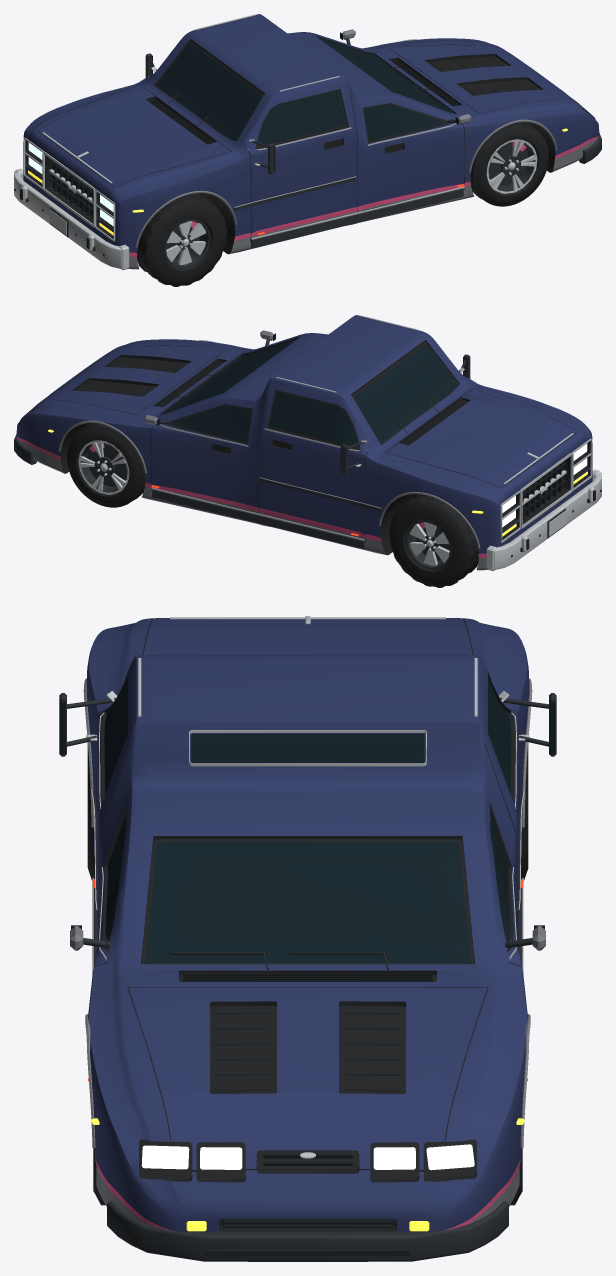
The model's file is nightshift_blueprint_LOD1.glb.
3 renders of one model, top to bottom at view 1: azimuth 30°, elevation 25°; view 2: azimuth 150°, elevation 25°; view 3: azimuth 270°, elevation 25°, orthographic. The views are drawn at different scales.
Visible parts, largest first — view 1: Body_NightshiftShell.001, Detail_BrushedMetal, Glass_TruckWindshield.001, Wheel_Truck_Tire_-1.001, Detail_Gunmetal, Wheel_Coupe_Tire_-1.001, Glass_TruckSide_R.001, Detail_Grille, Glass_CoupeWindshield.001, Glass_CoupeSide_R.001, Wheel_Coupe_Hub_-1.001, Detail_Secondary (+4 smaller); view 2: Body_NightshiftShell.001, Detail_BrushedMetal, Glass_TruckWindshield.001, Wheel_Truck_Tire_+1.001, Detail_Gunmetal, Wheel_Coupe_Tire_+1.001, Glass_TruckSide_L.001, Detail_Grille, Glass_CoupeWindshield.001, Glass_CoupeSide_L.001, Wheel_Coupe_Hub_+1.001, Detail_Secondary (+4 smaller); view 3: Body_NightshiftShell.001, Glass_CoupeWindshield.001, Detail_Gunmetal, Glass_CabRear.001, Detail_Grille, Detail_BrushedMetal, Detail_Headlight, Detail_Secondary, Detail_Rubber, Glass_TruckSide_L.001, Glass_TruckSide_R.001, Glass_CoupeSide_L.001 (+1 smaller).
Part boxes in pixels (x1,y1,x2,y2): Body_NightshiftShell.001: [23, 14, 599, 269]; Detail_BrushedMetal: [14, 14, 464, 270]; Glass_TruckWindshield.001: [157, 43, 262, 141]; Wheel_Truck_Tire_-1.001: [137, 193, 227, 286]; Detail_Gunmetal: [14, 37, 601, 256]; Wheel_Coupe_Tire_-1.001: [470, 122, 548, 206]; Glass_TruckSide_R.001: [257, 91, 345, 146]; Detail_Grille: [49, 57, 535, 218]; Glass_CoupeWindshield.001: [319, 38, 453, 113]; Glass_CoupeSide_R.001: [364, 104, 448, 140]; Wheel_Coupe_Hub_-1.001: [488, 141, 528, 185]; Detail_Secondary: [135, 29, 557, 247]; Body_NightshiftShell.001: [16, 315, 592, 570]; Detail_BrushedMetal: [151, 315, 601, 571]; Glass_TruckWindshield.001: [353, 344, 458, 442]; Wheel_Truck_Tire_+1.001: [388, 494, 478, 587]; Detail_Gunmetal: [14, 338, 601, 557]; Wheel_Coupe_Tire_+1.001: [67, 423, 145, 507]; Glass_TruckSide_L.001: [270, 392, 358, 447]; Detail_Grille: [80, 358, 566, 519]; Glass_CoupeWindshield.001: [162, 339, 296, 414]; Glass_CoupeSide_L.001: [167, 405, 251, 441]; Wheel_Coupe_Hub_+1.001: [87, 442, 127, 486]; Detail_Secondary: [58, 330, 480, 548]; Body_NightshiftShell.001: [86, 618, 529, 1231]; Glass_CoupeWindshield.001: [145, 841, 470, 963]; Detail_Gunmetal: [59, 693, 556, 1261]; Glass_CabRear.001: [191, 733, 424, 762]; Detail_Grille: [183, 973, 432, 1227]; Detail_BrushedMetal: [86, 616, 529, 1158]; Detail_Headlight: [141, 1144, 474, 1170]; Detail_Secondary: [70, 678, 545, 1147]; Detail_Rubber: [170, 952, 410, 1255]; Glass_TruckSide_L.001: [488, 677, 510, 792]; Glass_TruckSide_R.001: [105, 677, 127, 792]; Glass_CoupeSide_L.001: [490, 812, 509, 940].
Bounding box in the file's own units: 5.37 × 1.61 × 2.23.
